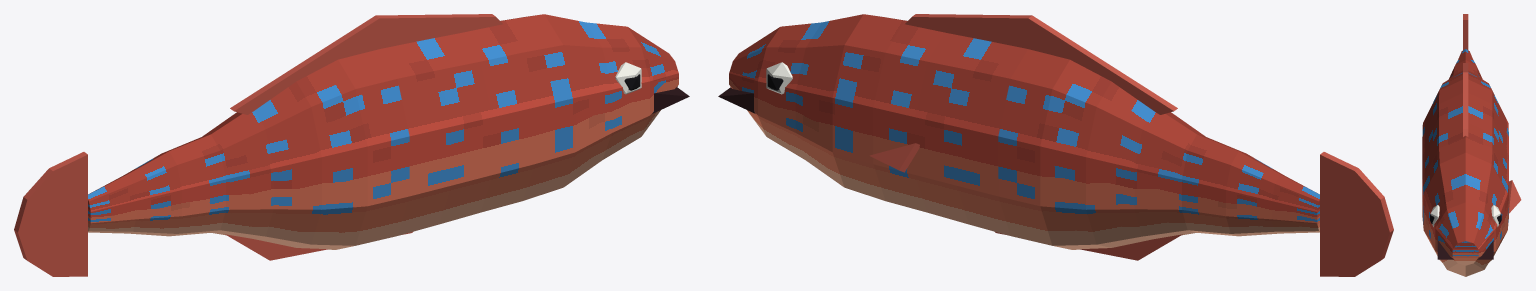
File: coral_cod.glb
3 renders of one model, left to right at view 1: azimuth 30°, elevation 25°; view 2: azimuth 150°, elevation 25°; view 3: azimuth 270°, elevation 25°, orthographic. The views are drawn at different scales.
Visible parts, largest first — view 1: fish_coral_cod; view 2: fish_coral_cod; view 3: fish_coral_cod.
Part boxes in pixels (x1,y1,x2,y2): fish_coral_cod: [14, 14, 689, 276]; fish_coral_cod: [718, 14, 1393, 276]; fish_coral_cod: [1422, 14, 1521, 276].
Size of the model in its own units: 1.12 by 0.3658 by 0.2178.
5 materials, 1 textured.
